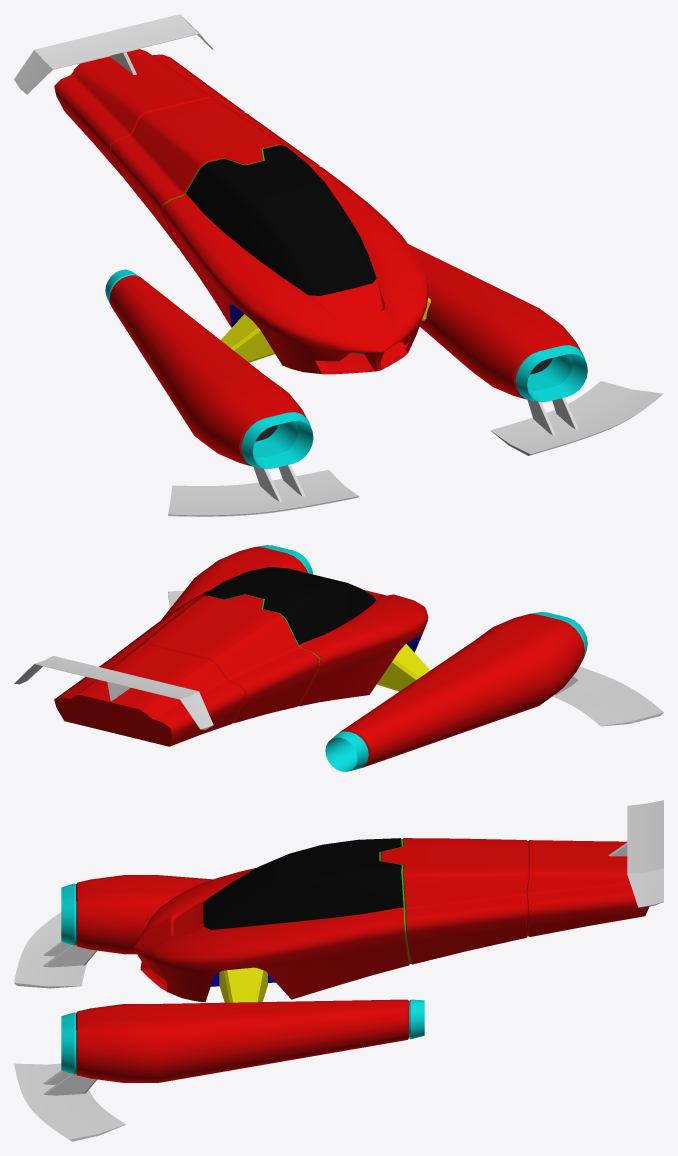
The model's file is LobsterCar_v3.fbx.
3 views of the same model, one above another, from view 1: azimuth 30°, elevation 25°; view 2: azimuth 150°, elevation 25°; view 3: azimuth 270°, elevation 25° (orthographic). The views are drawn at different scales.
Parts seen in each view (by area): view 1: S_LobsterCar; view 2: S_LobsterCar; view 3: S_LobsterCar.
Boxes of the visible parts, x1,y1,x2,y2 form: S_LobsterCar: [14, 14, 663, 516]; S_LobsterCar: [14, 545, 663, 771]; S_LobsterCar: [14, 800, 663, 1141].
Size of the model in its own units: 644 by 249 by 760.
